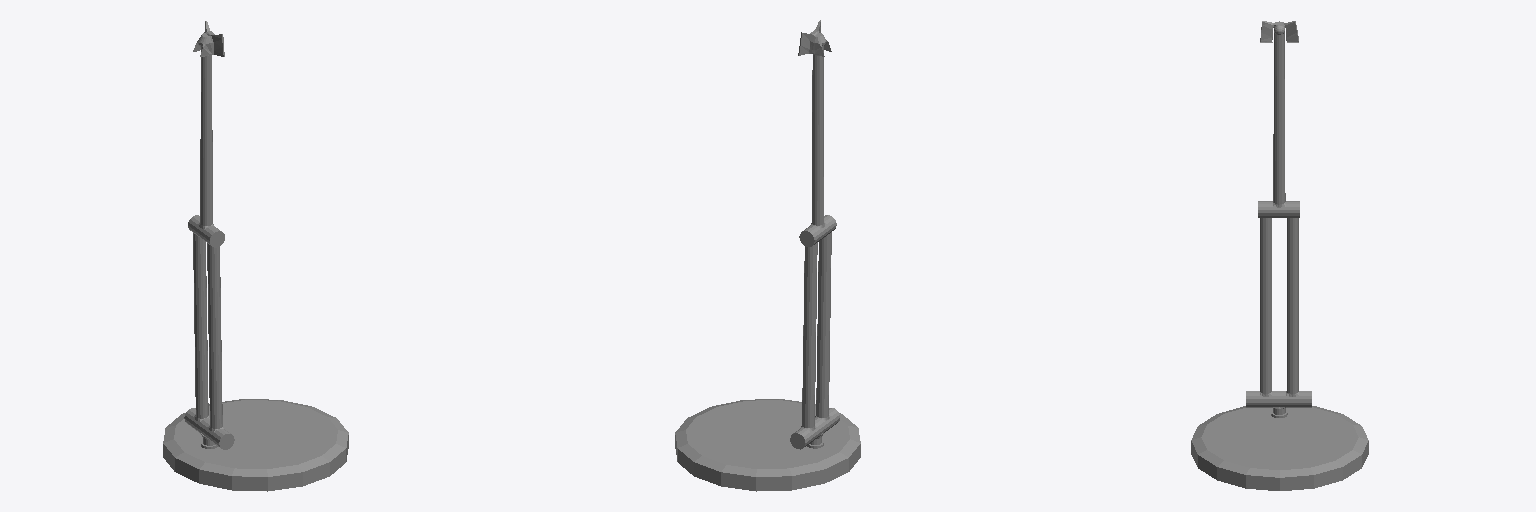
robot.urdf — lamp:
<?xml version="1.0"?>
<robot name="lamp">

  <material name="Blue"> <!-- for spheres -->
    <color rgba="0 0 1 0.5"/>
  </material>
  <material name="White">
    <color rgba="1 1 1 1"/>
  </material>
  <material name="Gray">
    <color rgba="0.6 0.6 0.6 1"/>
  </material>
  <material name="Green"> <!-- for ROMs -->
    <color rgba="0 1 0 0.4"/>
  </material>

  <link name="base_link"/>
  <joint name="base_link_J" type="fixed">
      <parent link="base_link"/>
      <child link="base_link_comshift"/>
      <origin rpy="0 0 3.14159265359" xyz="0 0 0"/>
   </joint>

  <link name="base_link_comshift"/>
  <joint name="base_link_comshift_J" type="fixed">
      <parent link="base_link_comshift"/>
      <child link="Head"/>
      <origin rpy="0 0 0" xyz="-0.023 0 0.245"/>
   </joint>

  <link name="Head">
      <inertial>
         <origin rpy="0 0 0" xyz="0 0 0"/>
         <mass value="2.8"/>
         <inertia ixx="0" ixy="0" ixz="0" iyy="0" iyz="0" izz="0"/>
      </inertial>
      <visual>
         <origin xyz="0 0 0" rpy="0 0 0"/>
         <geometry>
            <mesh filename="package://hpp-rbprm-corba/meshes/lamp/Head.stl"/>
         </geometry>
		 <material name="Gray"/>
      </visual>
      <collision>
         <origin xyz="0 0 0" rpy="0 0 0"/>
         <geometry>
            <mesh filename="package://hpp-rbprm-corba/meshes/lamp/Head.stl"/>
         </geometry>
      </collision>
   </link>

   <link name="HeadLink">
      <inertial>
         <origin rpy="0 0 0" xyz="0 0 0"/>
         <mass value="0"/>
         <inertia ixx="0" ixy="0" ixz="0" iyy="0" iyz="0" izz="0"/>
      </inertial>
      <visual>
         <origin xyz="0 0 0" rpy="0 0 0"/>
         <geometry>
            <mesh filename="package://hpp-rbprm-corba/meshes/lamp/HeadLink.stl"/>
         </geometry>
		 <material name="Gray"/>
      </visual>
      <collision>
         <origin xyz="0 0 0" rpy="0 0 0"/>
         <geometry>
            <mesh filename="package://hpp-rbprm-corba/meshes/lamp/HeadLink.stl"/>
         </geometry>
      </collision>
   </link>

   <!--<joint name="head_rom_joint" type="fixed">
      <parent link="HeadLink"/>
      <child link="head_rom"/>
      <origin rpy="0 0 0" xyz="0 0 0"/>
   </joint>

  <link name="head_rom">
      <visual>
         <origin xyz="0 0 0" rpy="0 0 0"/>
         <geometry>
            <mesh filename="package://hpp-rbprm-corba/meshes/lamp/foot_rom.stl"/>
         </geometry>
         <material name="Green"/>
      </visual>
   </link>-->
  
   <link name="ThighJoint"/>
   <link name="ThighJointBis"/>
   <link name="Thigh">
      <inertial>
         <origin rpy="0 0 0" xyz="0 0 0"/>
         <mass value="0.5"/>
         <inertia ixx="0.0071027" ixy="-0.00059867" ixz="-2.9564e-05" iyy="0.0046194" iyz="6.6519e-05" izz="0.0080488"/>
      </inertial>
      <visual>
         <origin xyz="0 0 0" rpy="0 0 0"/>
         <geometry>
            <mesh filename="package://hpp-rbprm-corba/meshes/lamp/Thigh.stl"/>
         </geometry>
         <material name="Gray"/>
      </visual>
      <collision>
         <origin xyz="0 0 0" rpy="0 0 0"/>
         <geometry>
            <mesh filename="package://hpp-rbprm-corba/meshes/lamp/Thigh.stl"/>
         </geometry>
      </collision>
   </link>
   
   <link name="ShankJoint"/>
   <link name="Shank">
      <inertial>
         <origin rpy="0 0 0" xyz="0 0 0"/>
         <mass value="0.5"/>
         <inertia ixx="0.0071027" ixy="-0.00059867" ixz="-2.9564e-05" iyy="0.0046194" iyz="6.6519e-05" izz="0.0080488"/>
      </inertial>
      <visual>
         <origin xyz="0 0 0" rpy="0 0 0"/>
         <geometry>
            <mesh filename="package://hpp-rbprm-corba/meshes/lamp/Shank.stl"/>
         </geometry>
         <material name="Gray"/>
      </visual>
      <collision>
         <origin xyz="0 0 0" rpy="0 0 0"/>
         <geometry>
            <mesh filename="package://hpp-rbprm-corba/meshes/lamp/Shank.stl"/>
         </geometry>
      </collision>
   </link>
   
   <link name="AnkleJoint"/>
   <link name="Ankle">
      <inertial>
         <origin rpy="0 0 0" xyz="0 0 0"/>
         <mass value="0.08"/>
         <inertia ixx="0.0071027" ixy="-0.00059867" ixz="-2.9564e-05" iyy="0.0046194" iyz="6.6519e-05" izz="0.0080488"/>
      </inertial>
      <visual>
         <origin xyz="0 0 0" rpy="0 0 0"/>
         <geometry>
            <mesh filename="package://hpp-rbprm-corba/meshes/lamp/Ankle.stl"/>
         </geometry>
         <material name="Gray"/>
      </visual>
      <collision>
         <origin xyz="0 0 0" rpy="0 0 0"/>
         <geometry>
            <mesh filename="package://hpp-rbprm-corba/meshes/lamp/Ankle.stl"/>
         </geometry>
      </collision>
   </link>
   
   <link name="FootJoint"/>
   <link name="Foot">
      <inertial>
         <origin rpy="0 0 0" xyz="0 0 0"/>
         <mass value="1."/>
         <inertia ixx="0.0071027" ixy="-0.00059867" ixz="-2.9564e-05" iyy="0.0046194" iyz="6.6519e-05" izz="0.0080488"/>
      </inertial>
      <visual>
         <origin xyz="0 0 0" rpy="0 0 0"/>
         <geometry>
            <mesh filename="package://hpp-rbprm-corba/meshes/lamp/Foot.stl"/>
         </geometry>
         <material name="Gray"/>
      </visual>
      <collision>
         <origin xyz="0 0 0" rpy="0 0 0"/>
         <geometry>
            <mesh filename="package://hpp-rbprm-corba/meshes/lamp/Foot.stl"/>
         </geometry>
      </collision>
   </link>
   
   <link name="LampFootSphere">
      <visual>
         <origin xyz="0 0 0" rpy="0 0 0"/>
         <geometry>
            <sphere radius="0.007"/>
         </geometry>
         <material name="Blue"/>
      </visual>
   </link>
   

   <!-- JOINTS -->
   <joint name="Head" type="fixed">
      <parent link="Head"/>
      <child link="HeadLink"/>
      <origin rpy="0 0 0" xyz="0.0912 -0.0012 -0.0501"/>
   </joint>
   <joint name="ThighJoint" type="revolute">
      <parent link="HeadLink"/>
      <child link="ThighJoint"/>
      <origin rpy="0 0 0" xyz="0 0 0"/>
      <axis xyz="0 0 1"/>
      <limit effort="0" lower="-1.9" upper="1.9" velocity="1.0"/>
   </joint>
   <joint name="ThighJointBis" type="revolute">
      <parent link="ThighJoint"/>
      <child link="ThighJointBis"/>
      <origin rpy="0 0 0" xyz="0 0 0"/>
      <axis xyz="0 1 0"/>
      <limit effort="0" lower="-0.55" upper="0.05" velocity="1.0"/>
   </joint> 
   <joint name="Thigh" type="fixed">
      <parent link="ThighJointBis"/>
      <child link="Thigh"/>
      <origin rpy="0 0 0" xyz="0.0005 0.0000919 -0.2788"/>
   </joint>
   <joint name="ShankJoint" type="revolute">
      <parent link="Thigh"/>
      <child link="ShankJoint"/>
      <origin rpy="0 0 0" xyz="0 0 0"/>
      <axis xyz="0 1 0"/>
      <limit effort="0" lower="-2.6" upper="2.1" velocity="1.0"/>
   </joint>
   <joint name="Shank" type="fixed">
      <parent link="ShankJoint"/>
      <child link="Shank"/>
      <origin rpy="0 0 0" xyz="-0.0044 0.0002 -0.2914"/>
   </joint>
   <joint name="AnkleJoint" type="revolute">
      <parent link="Shank"/>
      <child link="AnkleJoint"/>
      <origin rpy="0 0 0" xyz="0 0 0"/>
      <axis xyz="0 1 0"/>
      <limit effort="0" lower="-1.6" upper="1.6" velocity="1.0"/>
   </joint>
   <joint name="Ankle" type="fixed">
      <parent link="AnkleJoint"/>
      <child link="Ankle"/>
      <origin rpy="0 0 0" xyz="-0.0002 -0.0002 -0.024"/>
   </joint>
   <joint name="FootJoint" type="revolute">
      <parent link="Ankle"/>
      <child link="FootJoint"/>
      <origin rpy="0 0 0" xyz="0 0 0"/>
      <axis xyz="0 0 1"/>
      <limit effort="0" lower="-1.5" upper="1.5" velocity="1.0"/>
   </joint>
   <joint name="Foot" type="fixed">
      <parent link="FootJoint"/>
      <child link="Foot"/>
      <origin rpy="0 0 0" xyz="-0.072 -0.0009 -0.027"/>
   </joint>
   <joint name="LampFootSphere" type="fixed">
      <parent link="Foot"/>
      <child link="LampFootSphere"/>
      <origin rpy="0 0 0" xyz="0 0 -0.007"/>
   </joint>


</robot>

--- What the picture shows (computed from the rendered views, not written in the file) ---
Views: 3 orthographic renders of the robot side by side, from view 1: azimuth 30°, elevation 25°; view 2: azimuth 150°, elevation 25°; view 3: azimuth 270°, elevation 25°.
Model lamp with 14 links and 13 joints (5 revolute, 8 fixed), rooted at base_link, posed all joints at 0.
Visible links, largest first — view 1: Foot, Shank, Thigh, HeadLink; view 2: Foot, Shank, Thigh, HeadLink; view 3: Foot, Shank, Thigh, HeadLink.
Link boxes in pixels (box(x1,y1,x2,y2)): Foot: box(163, 399, 348, 491); Shank: box(184, 233, 234, 449); Thigh: box(188, 46, 224, 247); HeadLink: box(193, 21, 224, 56); Foot: box(675, 399, 860, 491); Shank: box(790, 232, 839, 449); Thigh: box(799, 45, 836, 246); HeadLink: box(798, 20, 831, 56); Foot: box(1191, 406, 1368, 490); Shank: box(1246, 218, 1311, 407); Thigh: box(1258, 25, 1299, 217); HeadLink: box(1260, 21, 1298, 42).
Bounding box of the posed robot: 0.2497 × 0.2497 × 0.6556 m (x, y, z).
5 mesh visuals loaded from 6 distinct referenced files (5 binary STL); not drawn: 1 (reference not matched to a file when rendering).